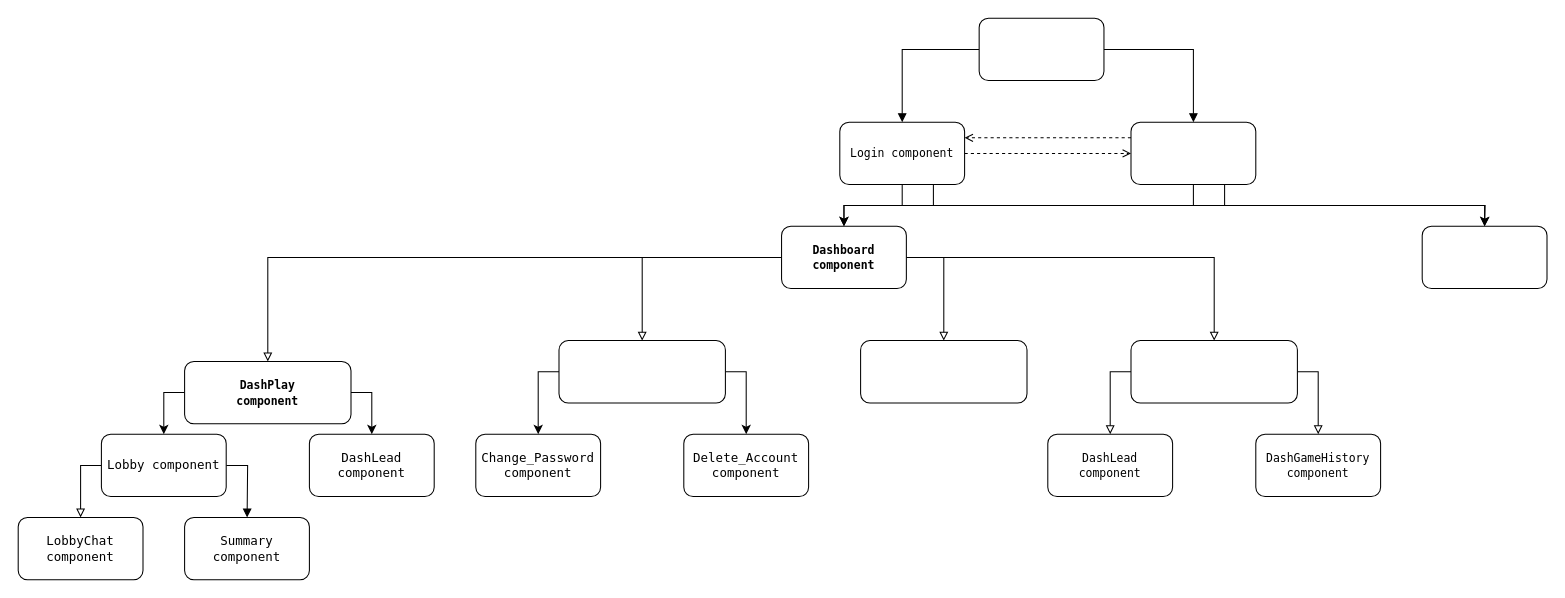
The diagram is 1565 pixels wide and 598 high, and some of its shapes have lost their labels. Each missing label, with the centre of its shape:
About component: (1484,257)
APP: (1041,49)
DashAchieve component: (943,371)
DashMetrics component: (1213,371)
DashSettings component: (641,371)
Register component: (1193,153)
